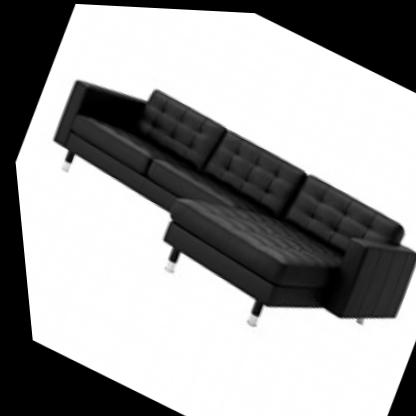Sofa: (3, 34, 416, 393)
